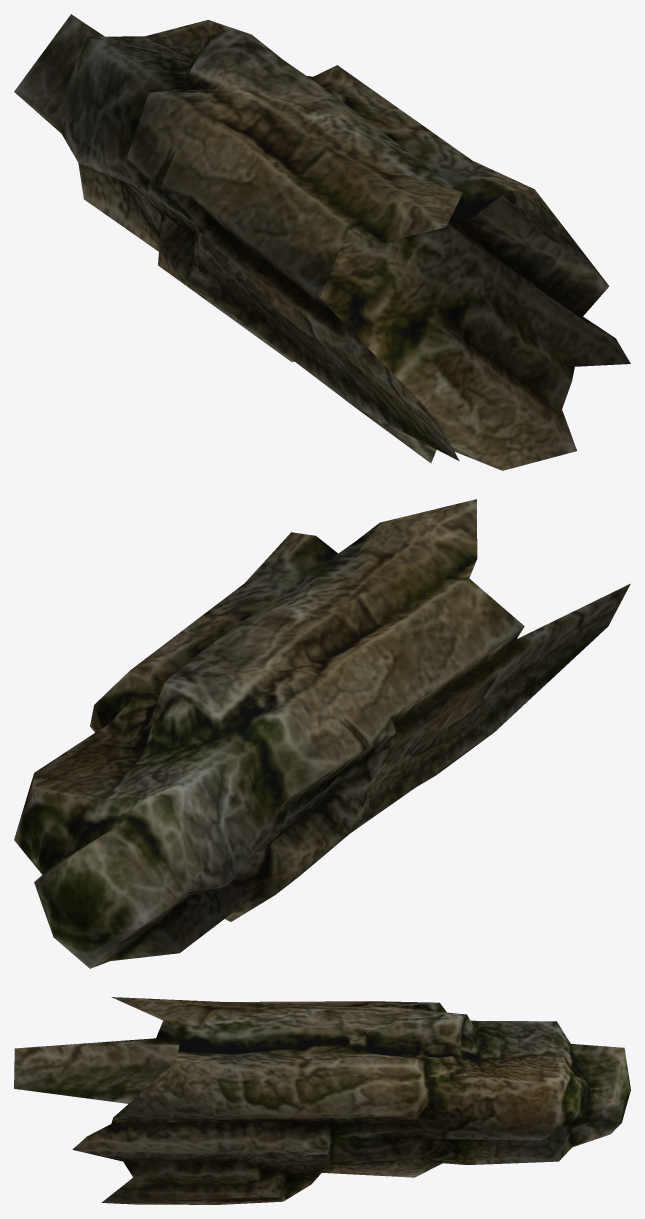
Rendered from MEP_Rock_04_c.fbx.
3 renders of one model, top to bottom at view 1: azimuth 30°, elevation 25°; view 2: azimuth 150°, elevation 25°; view 3: azimuth 270°, elevation 25°, orthographic. The views are drawn at different scales.
Visible parts, largest first — view 1: MEP_Rock_04_c; view 2: MEP_Rock_04_c; view 3: MEP_Rock_04_c.
Boxes of the visible parts, bbox=[...] form: MEP_Rock_04_c: bbox=[14, 14, 630, 470]; MEP_Rock_04_c: bbox=[14, 499, 630, 968]; MEP_Rock_04_c: bbox=[14, 997, 630, 1204].
Bounding box in the file's own units: 3.57 × 3.73 × 11.21.
